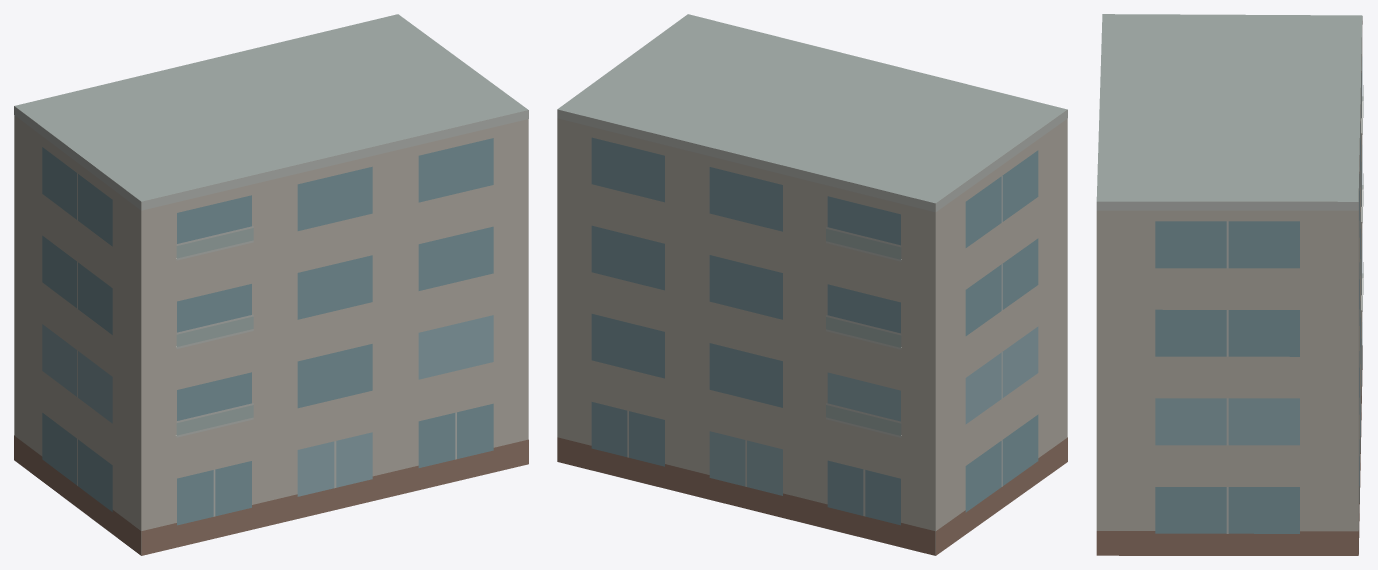
File: survey-upis-32584213.glb
The picture shows the model from 3 angles, left to right: view 1: azimuth 30°, elevation 25°; view 2: azimuth 150°, elevation 25°; view 3: azimuth 270°, elevation 25°; orthographic projection.
Visible parts, largest first — view 1: survey-upis-32584213.tmp; view 2: survey-upis-32584213.tmp; view 3: survey-upis-32584213.tmp.
Boxes of the visible parts, x1,y1,x2,y2 form: survey-upis-32584213.tmp: [14, 14, 528, 555]; survey-upis-32584213.tmp: [557, 14, 1067, 555]; survey-upis-32584213.tmp: [1096, 14, 1363, 555].
Bounding box in the file's own units: 10.99 × 9.65 × 6.6.
